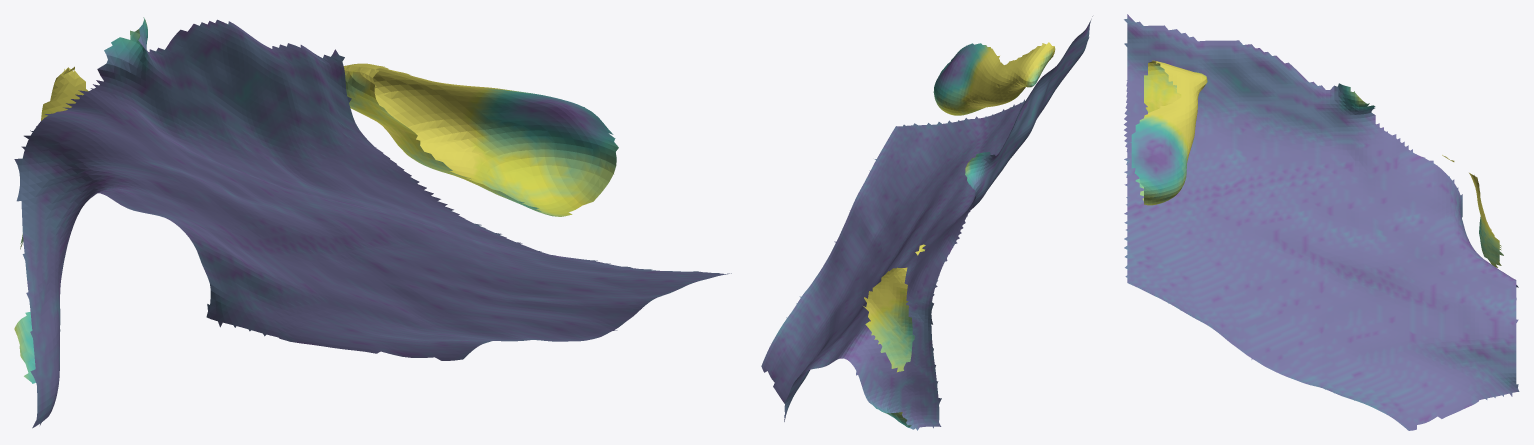
Rendered from crop1118_gap.glb.
3 views of the same model, side by side, from view 1: azimuth 30°, elevation 25°; view 2: azimuth 150°, elevation 25°; view 3: azimuth 270°, elevation 25° (orthographic). The views are drawn at different scales.
Parts seen in each view (by area): view 1: world; view 2: world; view 3: world.
Boxes of the visible parts, left/top/right/bottom form: world: left=14, top=17, right=731, bottom=428; world: left=761, top=16, right=1092, bottom=430; world: left=1124, top=14, right=1519, bottom=430.
Size of the model in its own units: 944 by 1359 by 1531.
